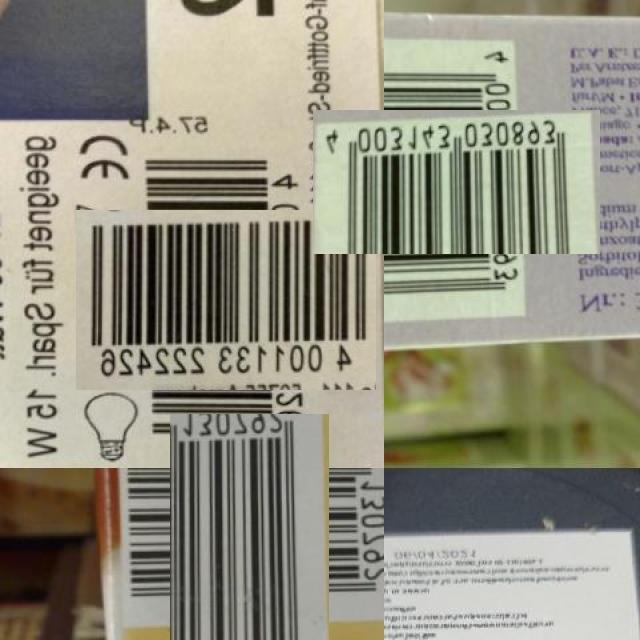Barcode: (106, 180, 347, 420), (348, 73, 564, 290), (142, 441, 356, 640)
